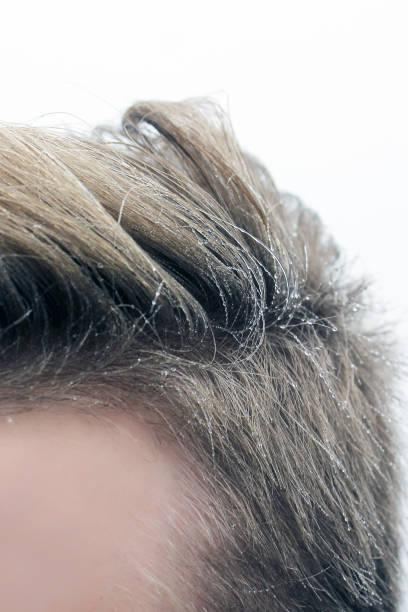dandruff: (22, 377, 42, 412), (286, 281, 308, 312), (273, 315, 297, 340), (336, 508, 354, 539), (132, 353, 150, 371), (145, 259, 161, 276), (148, 292, 160, 307)
dry hair: (193, 368, 261, 423), (287, 372, 317, 487), (268, 508, 301, 584), (61, 336, 89, 381)
